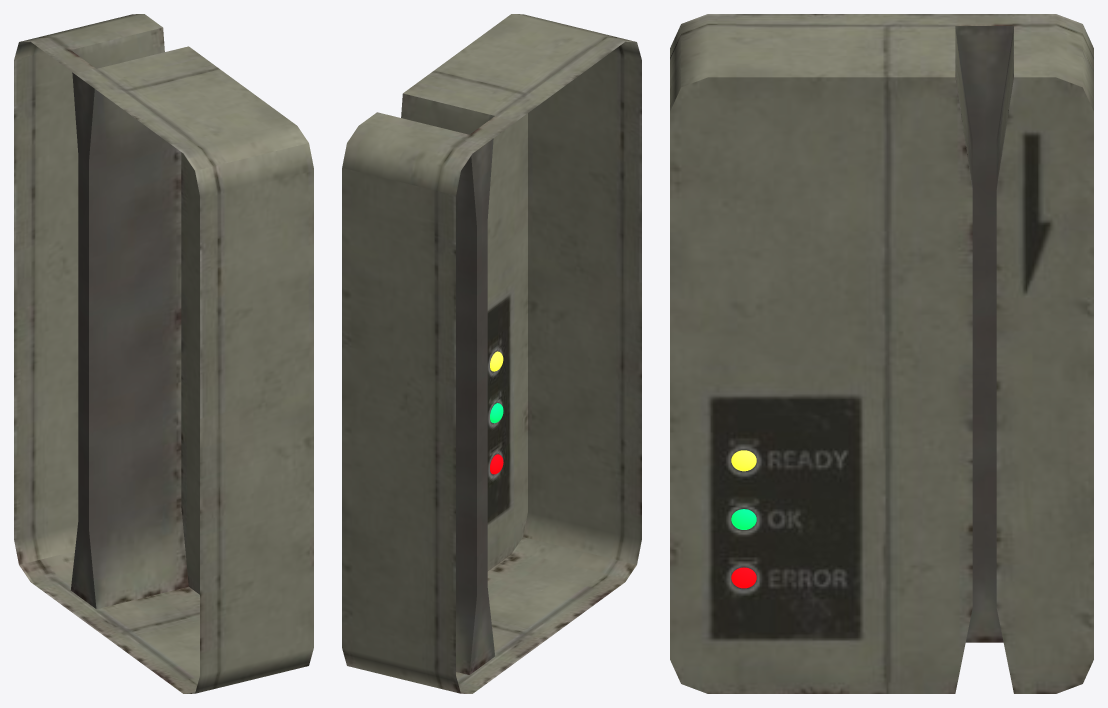
The model's file is Tarjetero.glb.
3 renders of one model, left to right at view 1: azimuth 30°, elevation 25°; view 2: azimuth 150°, elevation 25°; view 3: azimuth 270°, elevation 25°, orthographic. The views are drawn at different scales.
Parts seen in each view (by area): view 1: Tarjetero; view 2: Tarjetero; view 3: Tarjetero.
Boxes of the visible parts, x1,y1,x2,y2 form: Tarjetero: (14,14,313,693); Tarjetero: (342,14,641,693); Tarjetero: (670,14,1093,693).
Bounding box in the file's own units: 0.1479 × 0.6408 × 0.3993.
4 materials, 1 textured.
